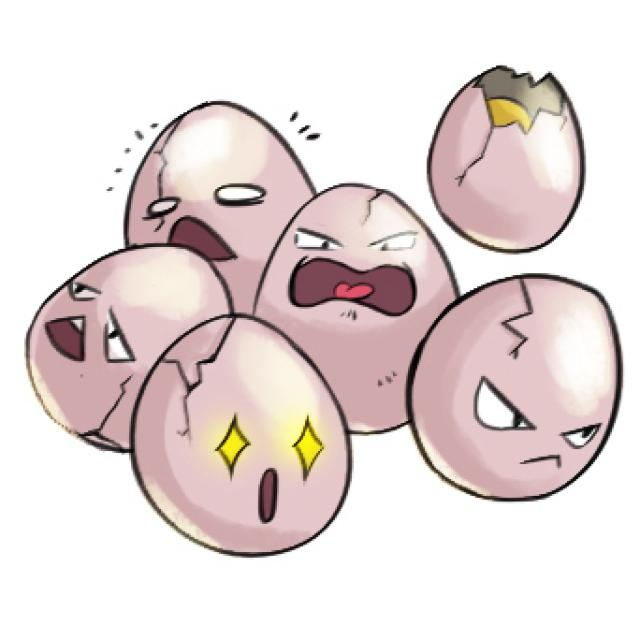Exeggcute: (21, 66, 624, 564)
